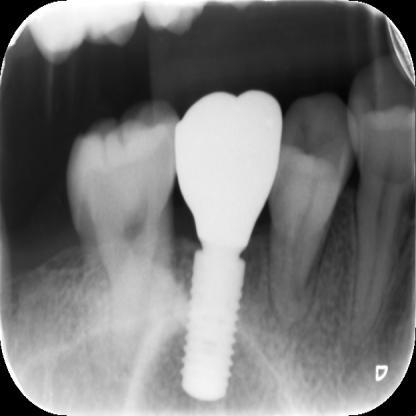ITI: (179, 248, 249, 404)
